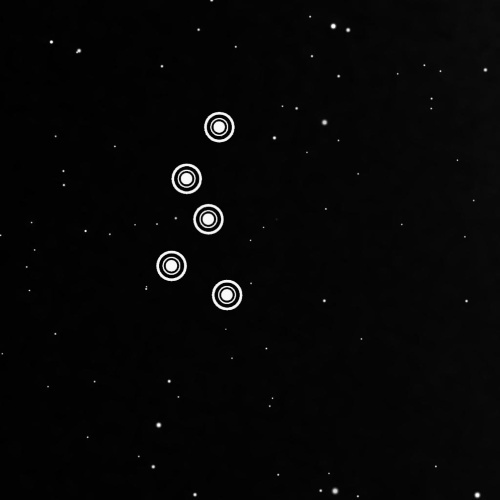cassiopeia: (148, 101, 251, 323)
